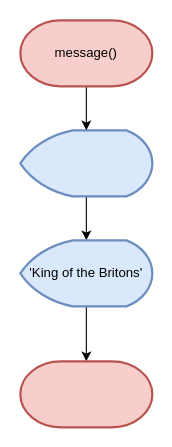
This 172x447 diagram has some shape labels left out. Each missing label, with the centre of its shape:
'I am Arthur': (x=86, y=163)
Return: (x=86, y=394)
